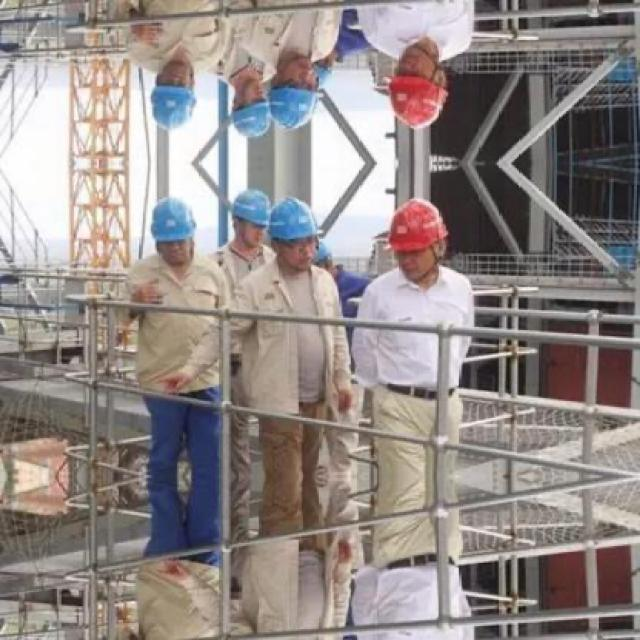con casco: (256, 144, 341, 344), (373, 172, 462, 345), (137, 172, 210, 318), (213, 147, 280, 300)
